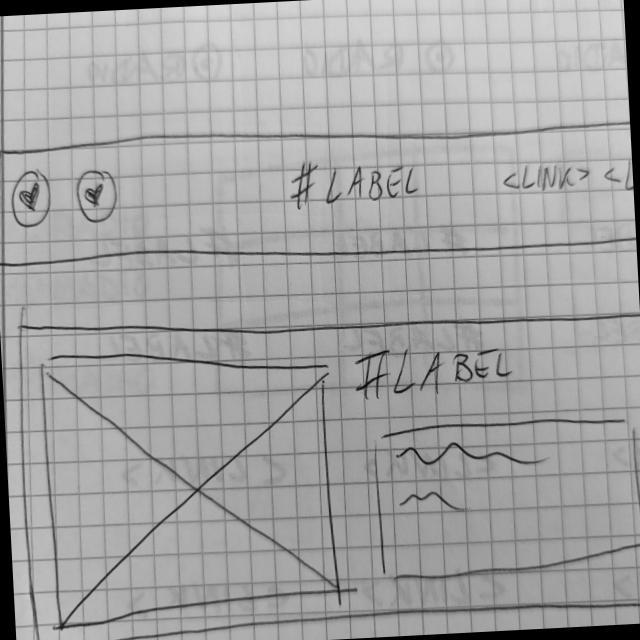container: (12, 291, 640, 640), (1, 107, 637, 280)
icon-button: (74, 167, 122, 227), (11, 170, 56, 233)
image: (38, 338, 344, 632)
label: (352, 338, 516, 407), (288, 155, 426, 214)
link: (501, 160, 593, 200), (603, 156, 635, 199)
textarea: (370, 412, 640, 588)
